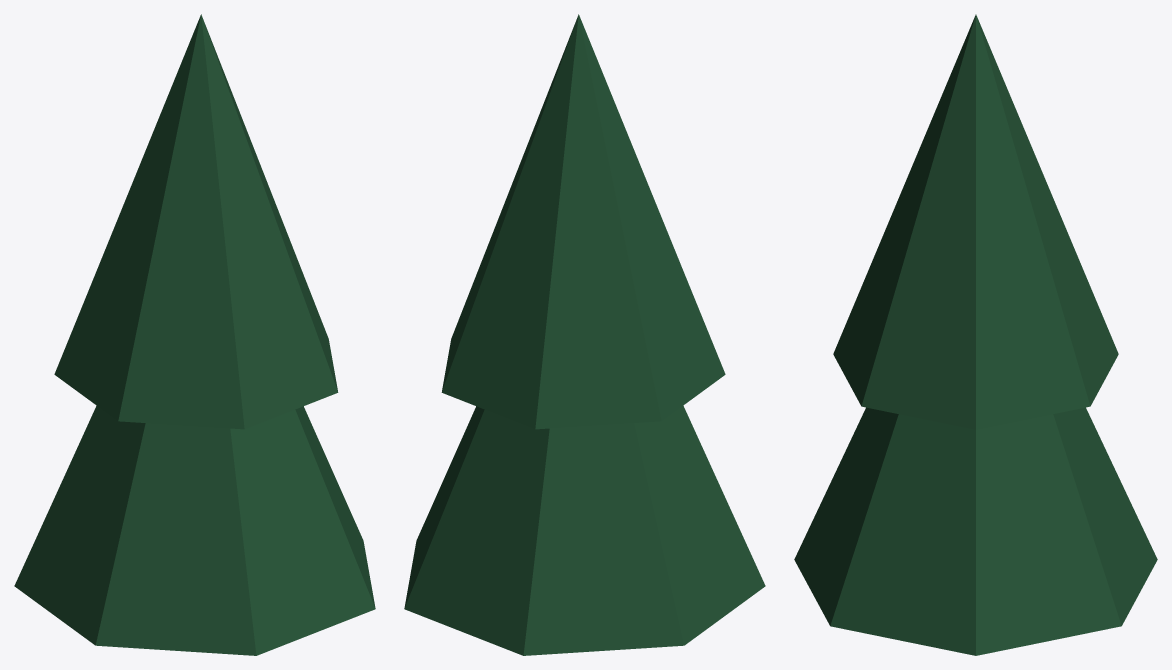
File: pinecontext.glb
3 renders of one model, left to right at view 1: azimuth 30°, elevation 25°; view 2: azimuth 150°, elevation 25°; view 3: azimuth 270°, elevation 25°, orthographic.
Visible parts, largest first — view 1: pinecontext; view 2: pinecontext; view 3: pinecontext.
Boxes of the visible parts, x1,y1,x2,y2 form: pinecontext: [14, 14, 375, 655]; pinecontext: [404, 14, 765, 655]; pinecontext: [794, 14, 1157, 655].
Bounding box in the file's own units: 3.99 × 7 × 4.09.
